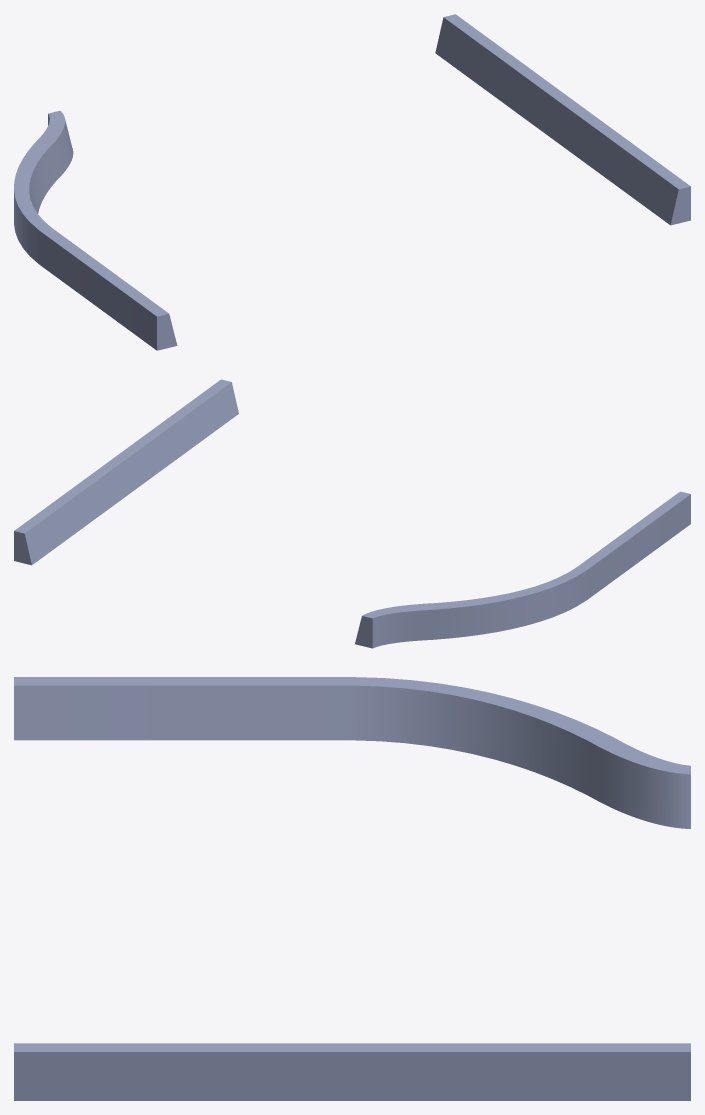
Rendered from road-side-entry-barrier.glb.
3 views of the same model, one above another, from view 1: azimuth 30°, elevation 25°; view 2: azimuth 150°, elevation 25°; view 3: azimuth 270°, elevation 25° (orthographic). The views are drawn at different scales.
Parts seen in each view (by area): view 1: road-side-entry-barrier; view 2: road-side-entry-barrier; view 3: road-side-entry-barrier.
Boxes of the visible parts, x1,y1,x2,y2 form: road-side-entry-barrier: [14, 14, 690, 350]; road-side-entry-barrier: [14, 379, 690, 648]; road-side-entry-barrier: [14, 677, 690, 1100].
Bounding box in the file's own units: 1.31 × 0.08 × 1.
Materials: 1 (1 with a texture image).
